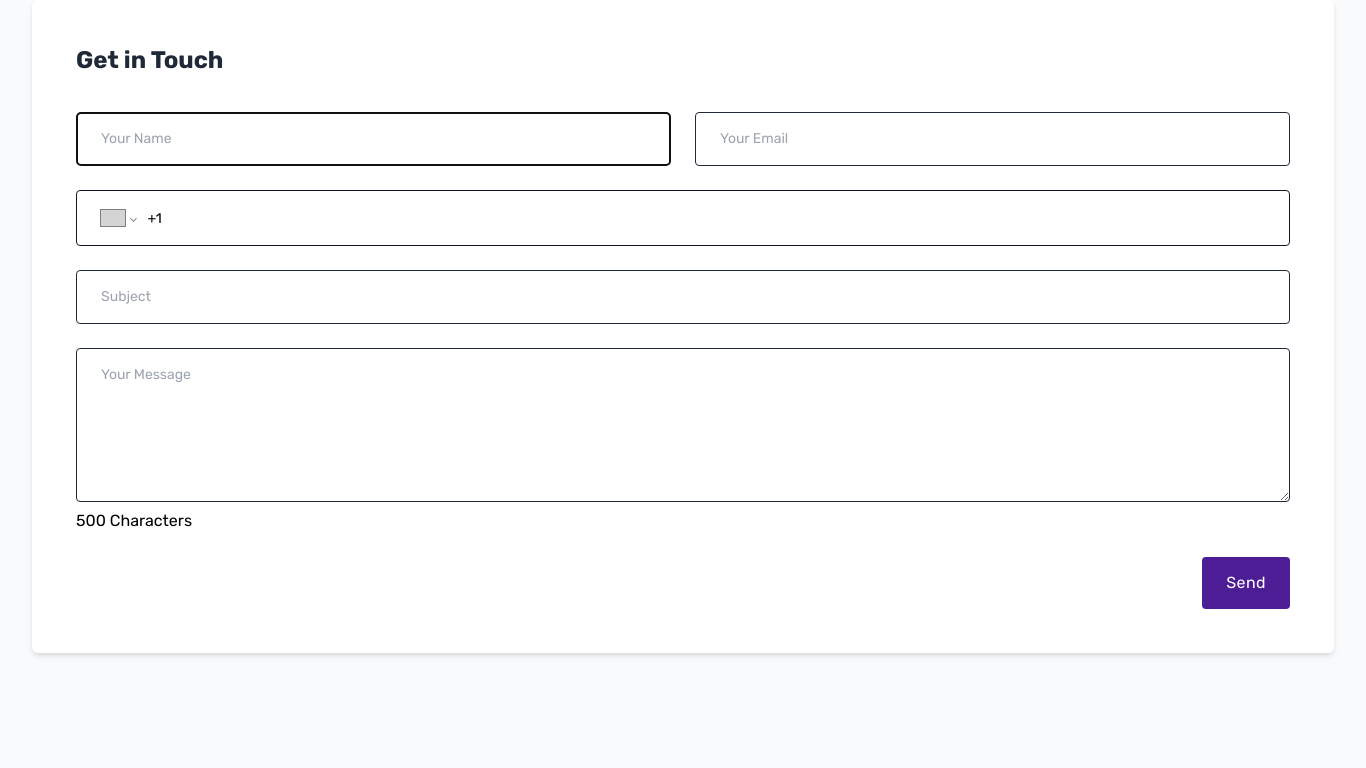
Test: Contact Component › updates character count on message input
Type "Hello" into the text box with placeholder "Your Message" at (683, 425), box [76,348,1290,502]
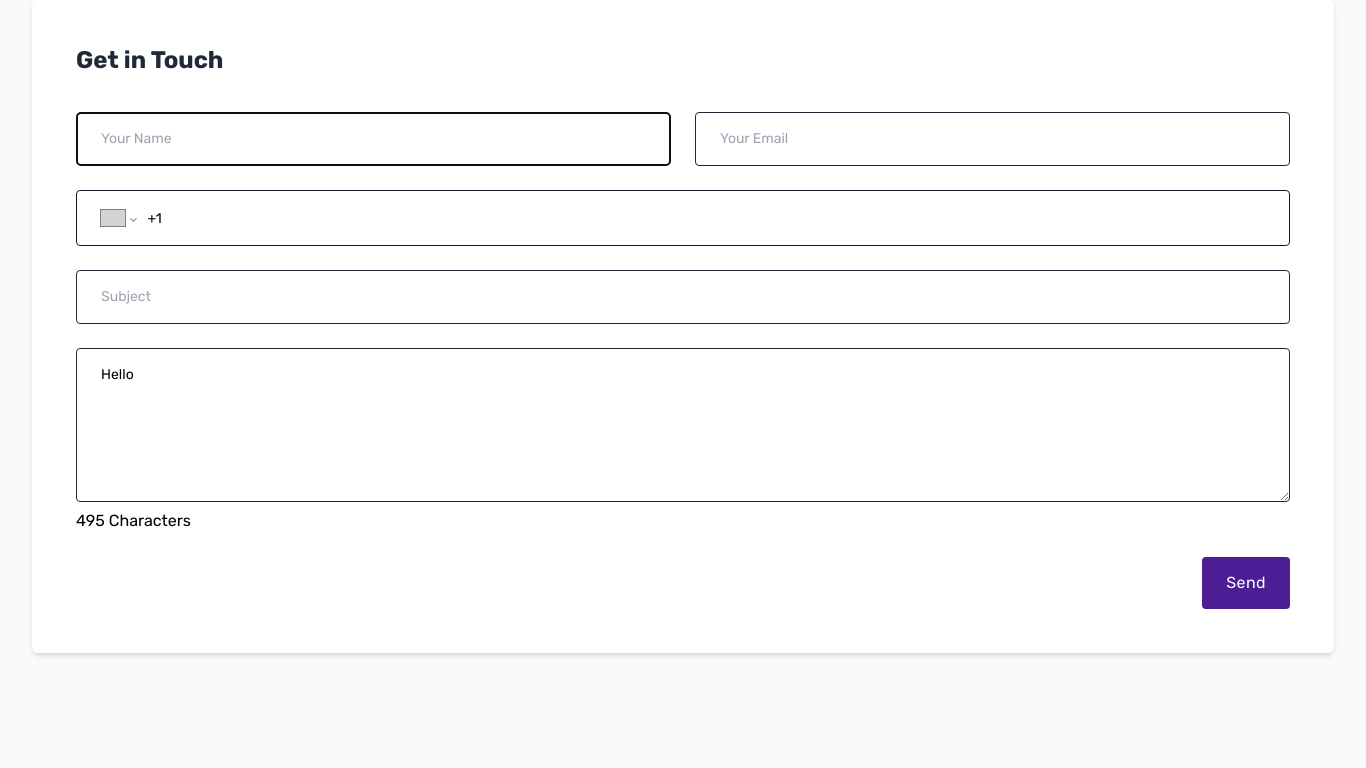
Result: the text "495 Characters" is shown at [76,511,191,530]
